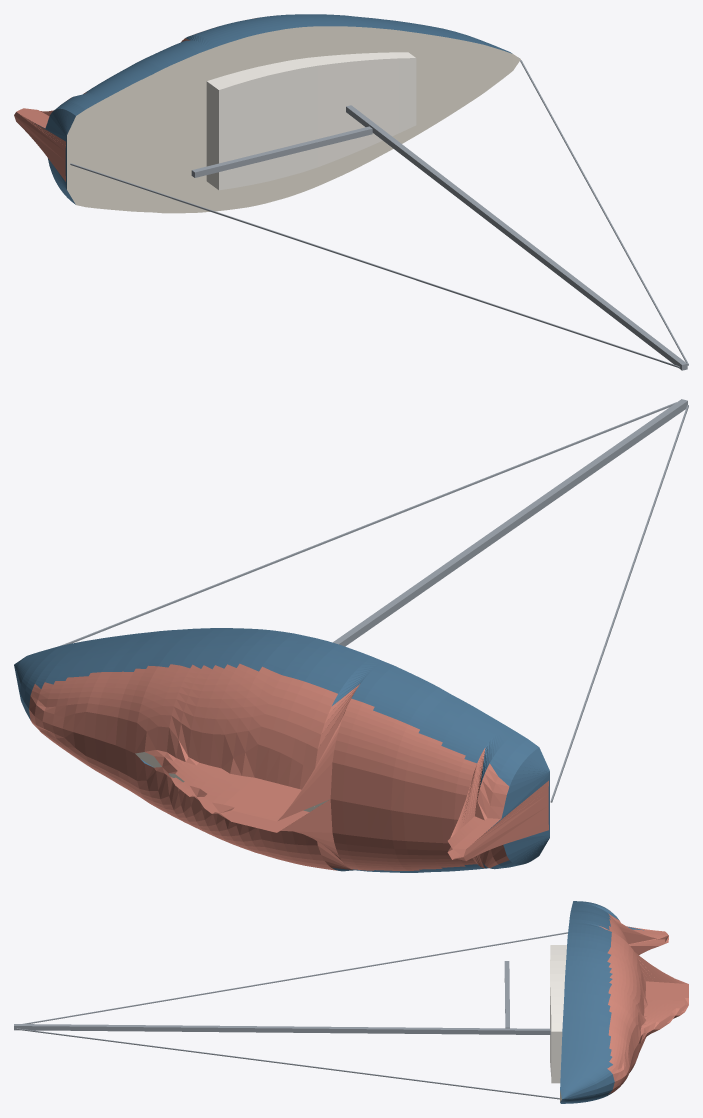
Rendered from catalina-30-mkii.glb.
The picture shows the model from 3 angles, top to bottom: view 1: azimuth 30°, elevation 25°; view 2: azimuth 150°, elevation 25°; view 3: azimuth 270°, elevation 25°; orthographic projection. The views are drawn at different scales.
Visible parts, largest first — view 1: Catalina 30 Mk II; view 2: Catalina 30 Mk II; view 3: Catalina 30 Mk II.
Part boxes in pixels (left/top/right/bottom): Catalina 30 Mk II: left=14, top=14, right=688, bottom=370; Catalina 30 Mk II: left=14, top=399, right=688, bottom=872; Catalina 30 Mk II: left=14, top=901, right=688, bottom=1103.
Bounding box in the file's own units: 2 × 0.7312 × 3.4.
